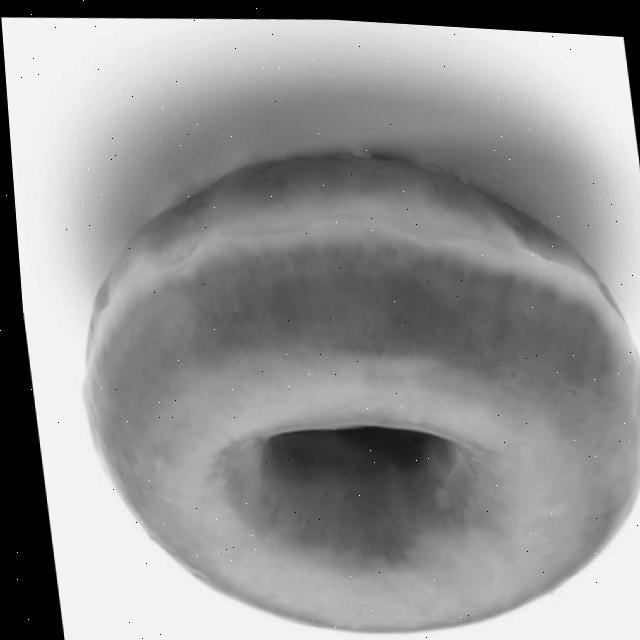炸货点心: (9, 6, 640, 640)
